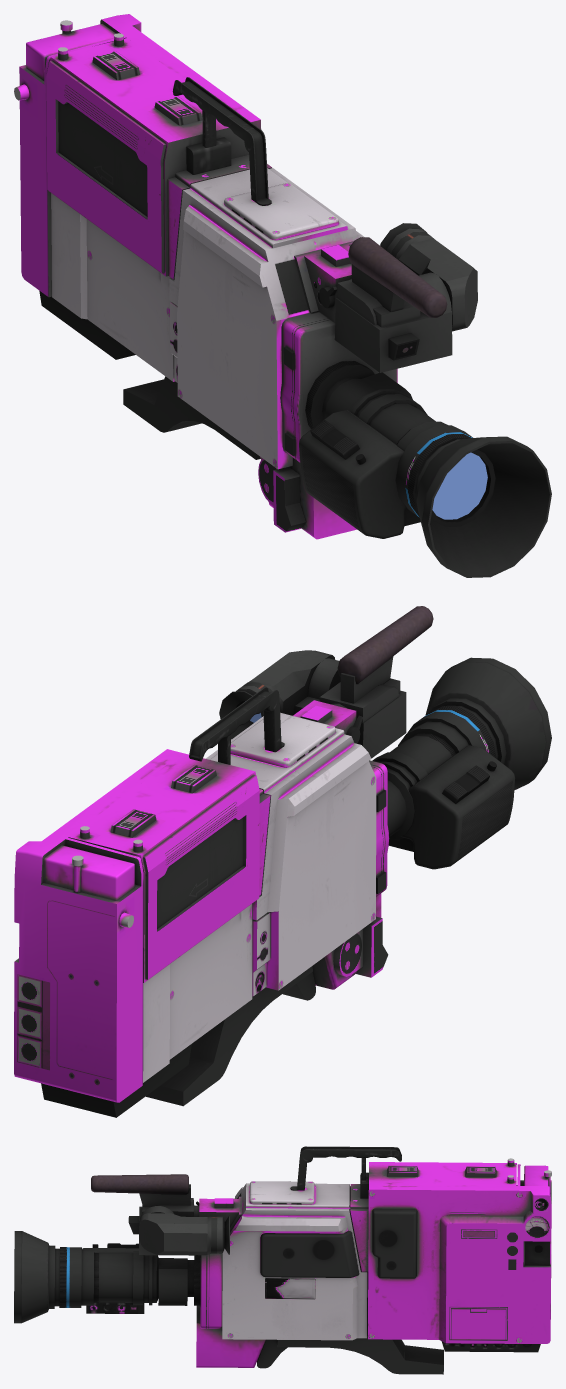
File: camera_pink.glb
3 views of the same model, one above another, from view 1: azimuth 30°, elevation 25°; view 2: azimuth 150°, elevation 25°; view 3: azimuth 270°, elevation 25° (orthographic). The views are drawn at different scales.
Visible parts, largest first — view 1: camera3; view 2: camera3; view 3: camera3.
Part boxes in pixels (left/top/right/bottom): camera3: left=14, top=14, right=551, bottom=577; camera3: left=14, top=606, right=551, bottom=1117; camera3: left=14, top=1146, right=551, bottom=1374.
Bounding box in the file's own units: 0.5541 × 0.9636 × 2.16.
Materials: 2 (1 with a texture image).
